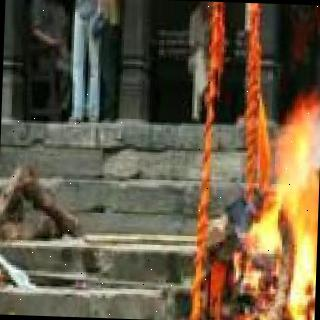fire: (243, 106, 320, 320)
